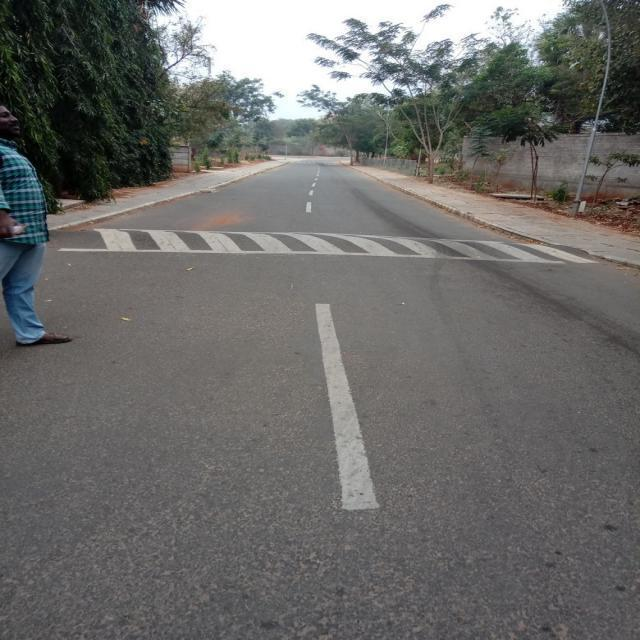speedbreaker: (52, 218, 606, 274)
